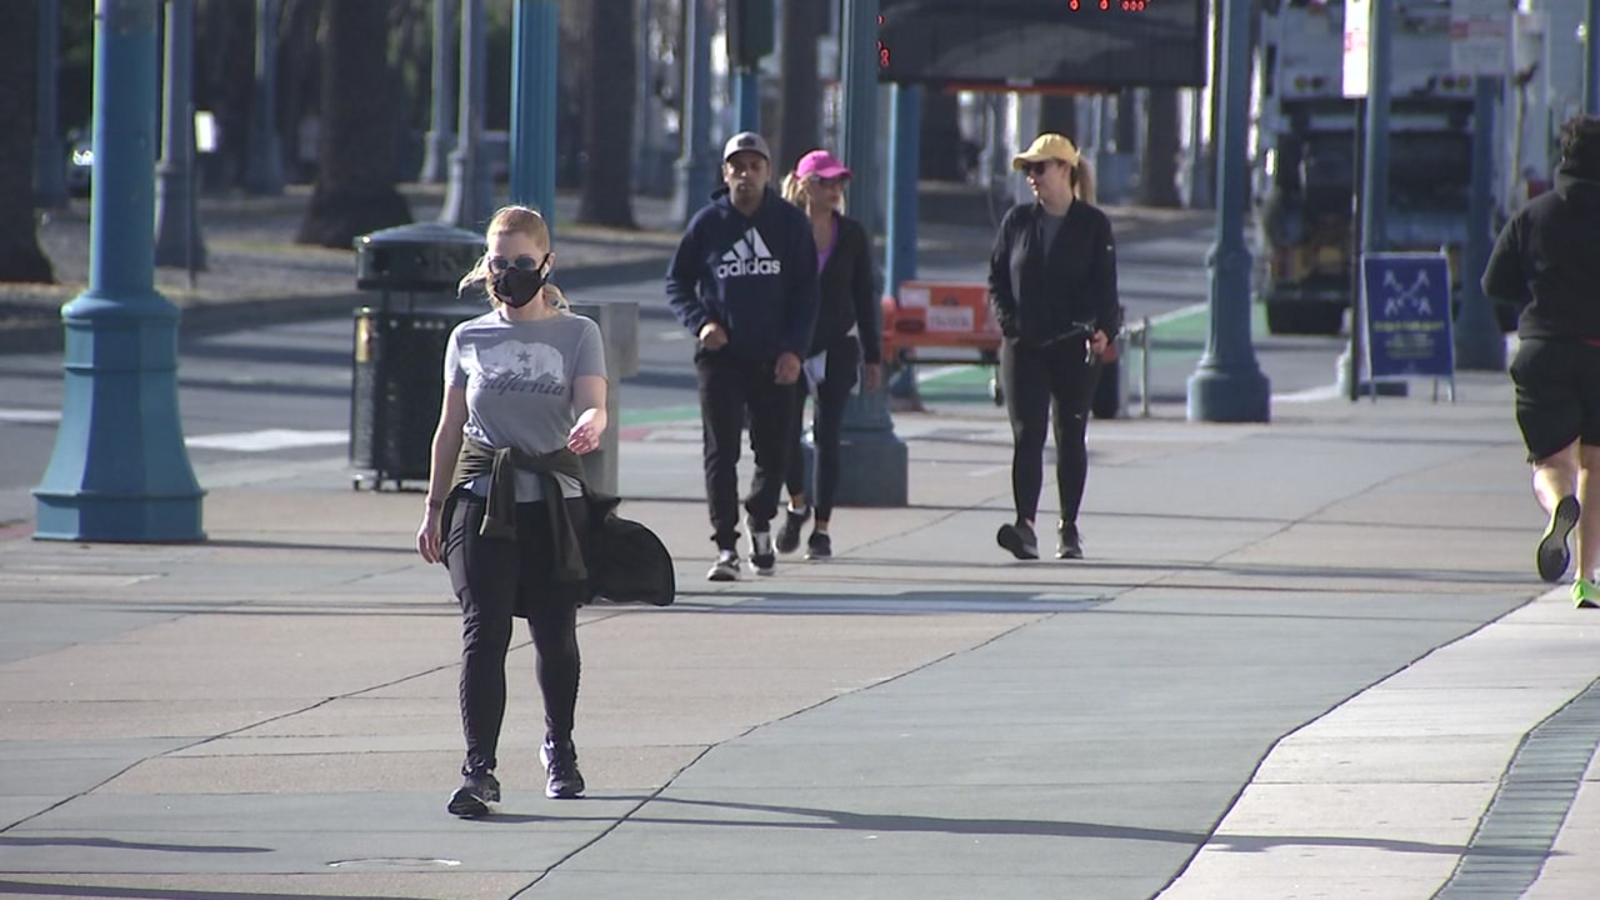Person: (425, 200, 625, 787), (693, 131, 818, 562), (993, 131, 1100, 543)
